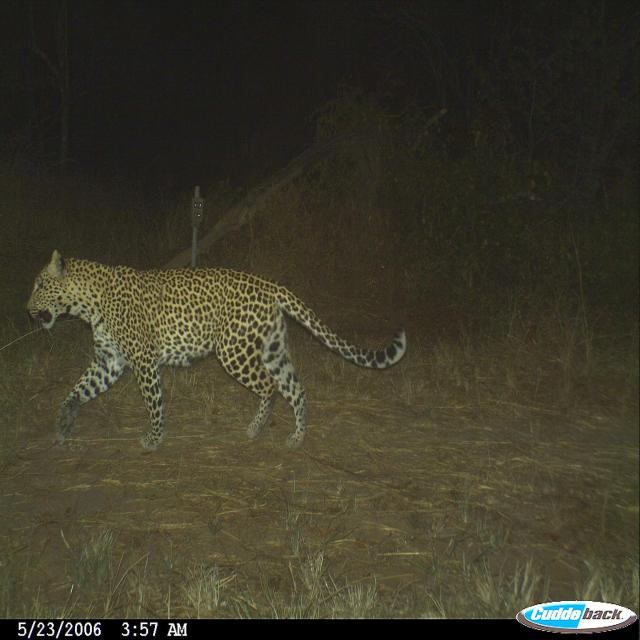Leopard: (18, 247, 422, 450)
